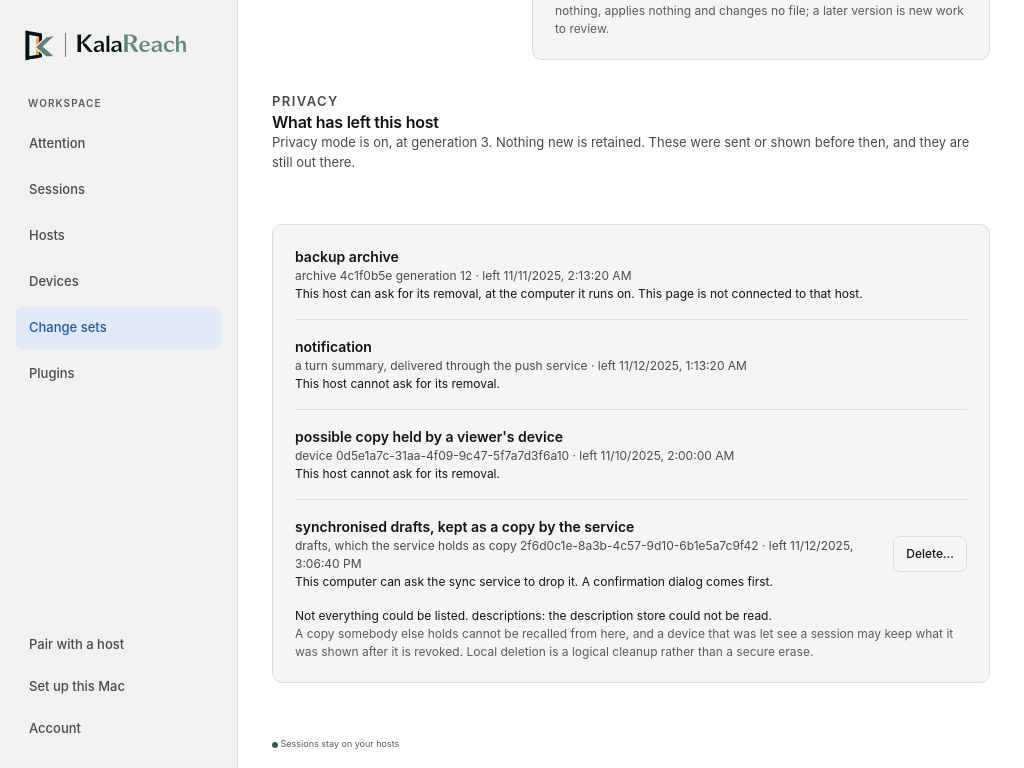
Scenario: a host this device is paired with › lists its copies and offers their deletion nowhere, and still drops this computer’s own
(page scrolled)
Expected: the number of elements with test id "left-copy" is 4, [295,248,863,302]; [295,320,967,410]; [295,410,967,500]; [295,500,967,608]
Expected: the text with test id "removal" shows "at the computer it runs on", [295,286,863,302]
Click the button "Delete…". click: (930, 554)
box: [893,536,967,572]
(page scrolled)
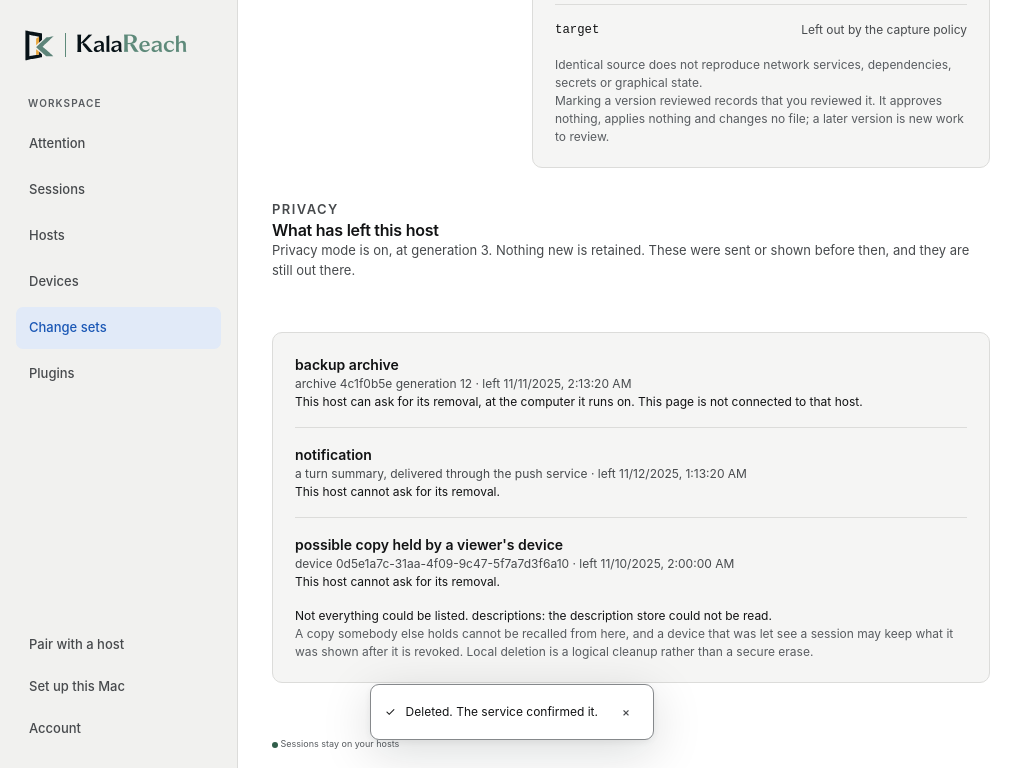
Expected: the text "drafts, which the service holds as copy 2f6d0c1e-8a3b-4c57-9d10-6b1e5a7c9f42" is gone
